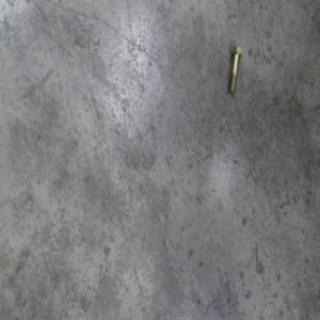Bolttrack_idkeyframe: (227, 46, 241, 94)
